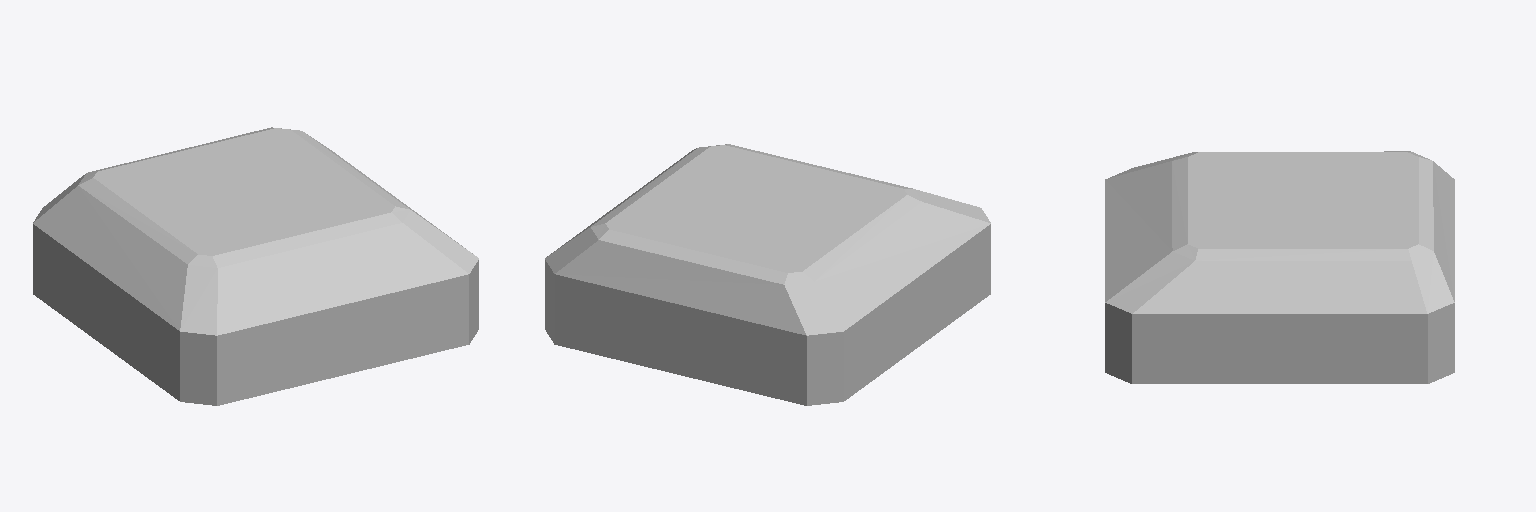
The model's file is Boton .obj.
3 renders of one model, left to right at view 1: azimuth 30°, elevation 25°; view 2: azimuth 150°, elevation 25°; view 3: azimuth 270°, elevation 25°, orthographic.
Visible parts, largest first — view 1: Mesh (2); view 2: Mesh (2); view 3: Mesh (2).
Boxes of the visible parts, x1=… form: Mesh (2): x1=33, y1=127, x2=478, y2=405; Mesh (2): x1=545, y1=144, x2=990, y2=405; Mesh (2): x1=1105, y1=151, x2=1454, y2=383.
Bounding box in the file's own units: 0.0179 × 0.0063 × 0.0181.